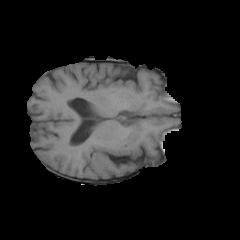glioma: (85, 141, 140, 167)
